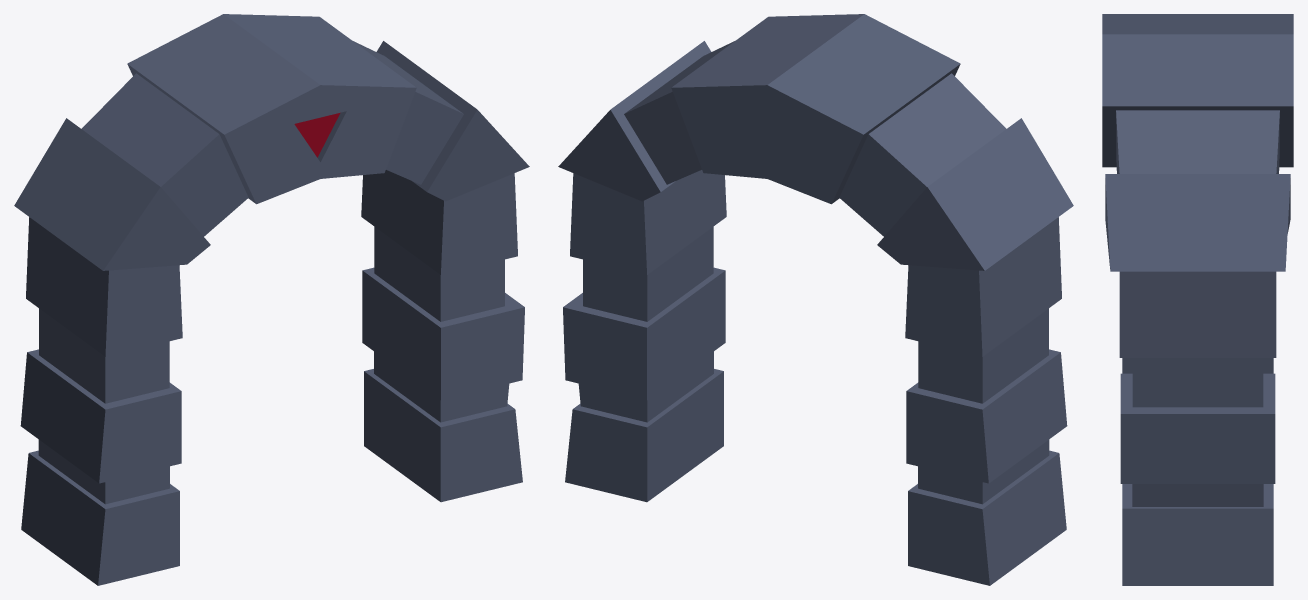
File: dg_modular.fbx
3 views of the same model, side by side, from view 1: azimuth 30°, elevation 25°; view 2: azimuth 150°, elevation 25°; view 3: azimuth 270°, elevation 25° (orthographic).
Parts seen in each view (by area): view 1: door_arch.001; view 2: door_arch.001; view 3: door_arch.001.
Boxes of the visible parts, box(x1,y1,x2,y2) form: door_arch.001: box(14, 14, 529, 585); door_arch.001: box(558, 14, 1073, 585); door_arch.001: box(1102, 14, 1293, 585).
Size of the model in its own units: 296 by 302 by 116.
